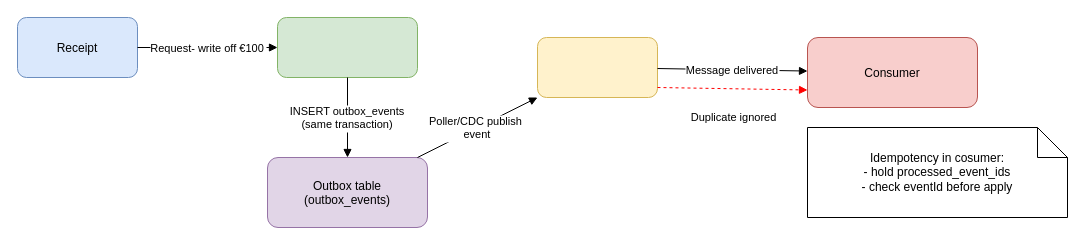
This 1085x245 diagram has some shape labels left out. Each missing label, with the centre of its shape:
GatewayAPI websocket: (x=347, y=47)
Kafka: (x=597, y=67)
